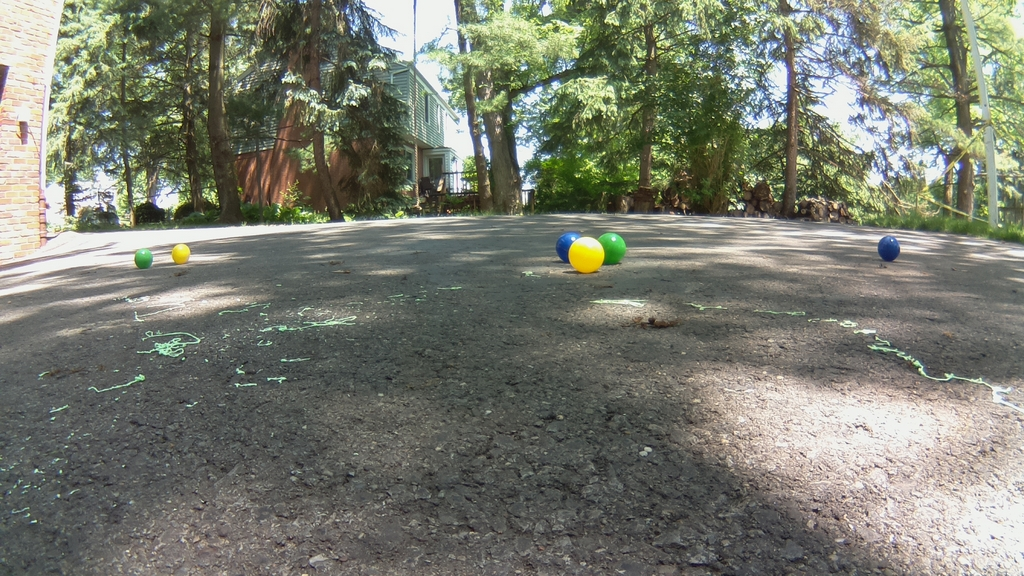ball: (878, 236, 899, 260)
